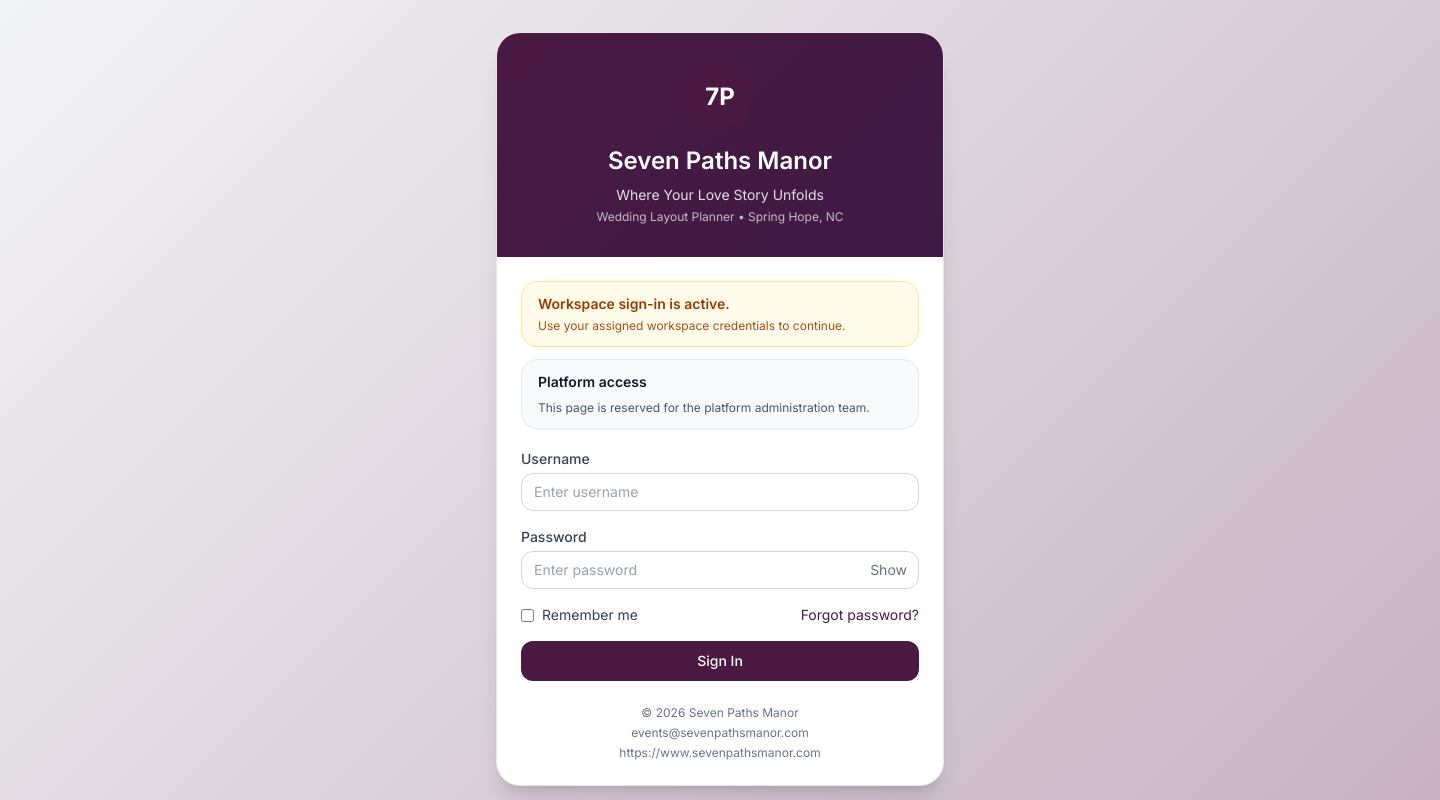
Test: LoginScreen › clears Signing in and hides raw service errors when login throws
Type "admin@example.com" into the field labelled "Username" at (720, 492), box [521,473,919,511]
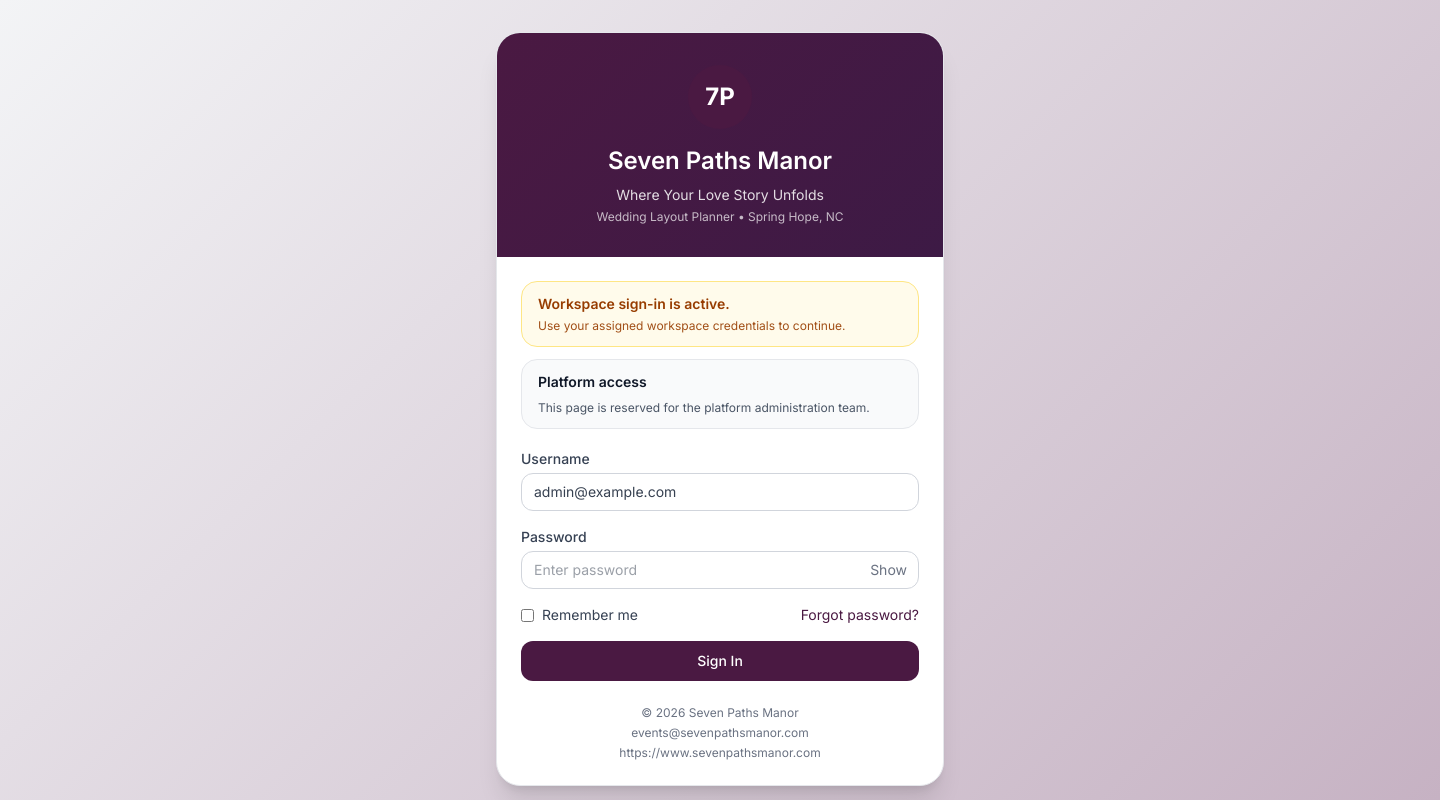
Type "secret" into the password field labelled "Password" at (720, 570), box [521,551,919,589]
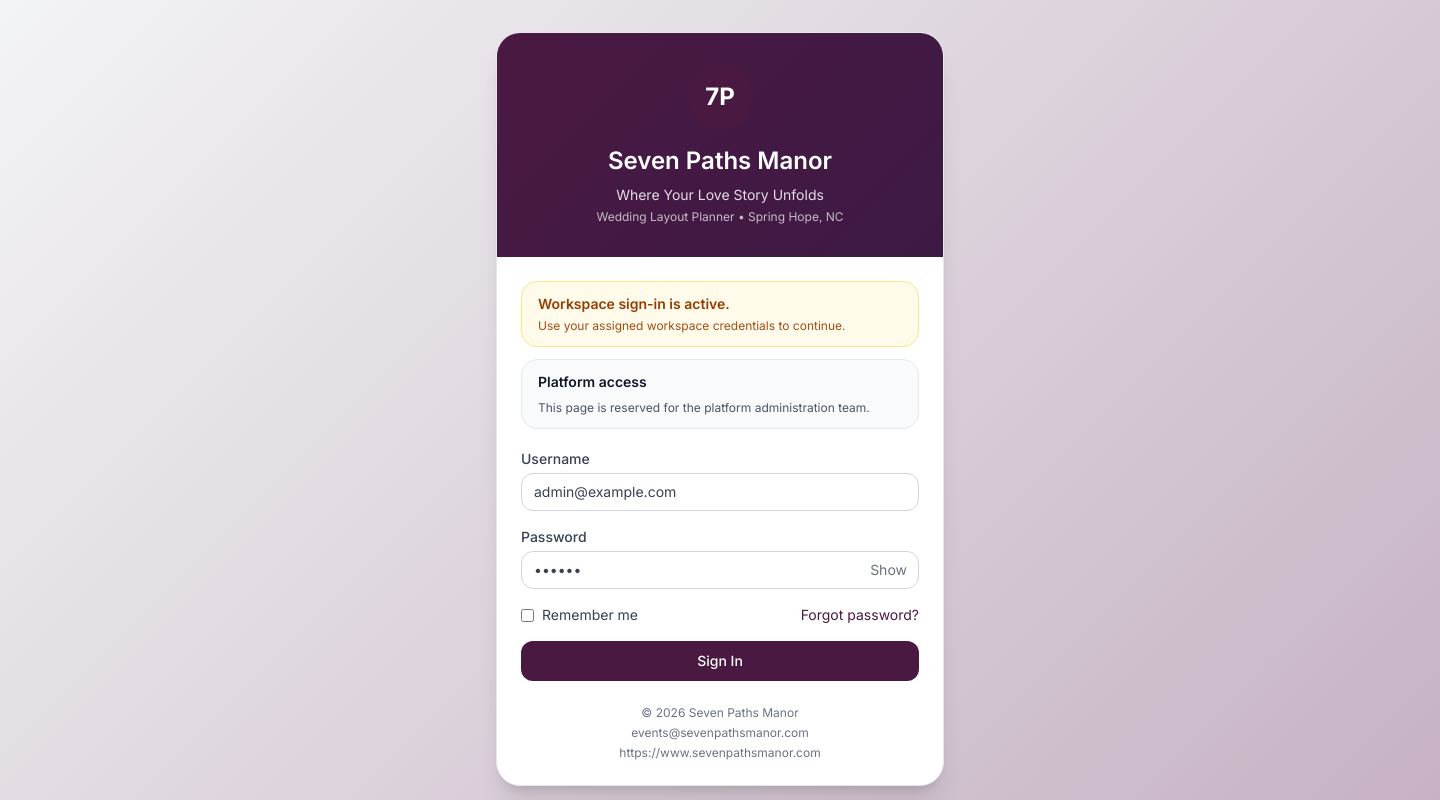
Click the button "Sign In" at (720, 661), box [521,641,919,681]
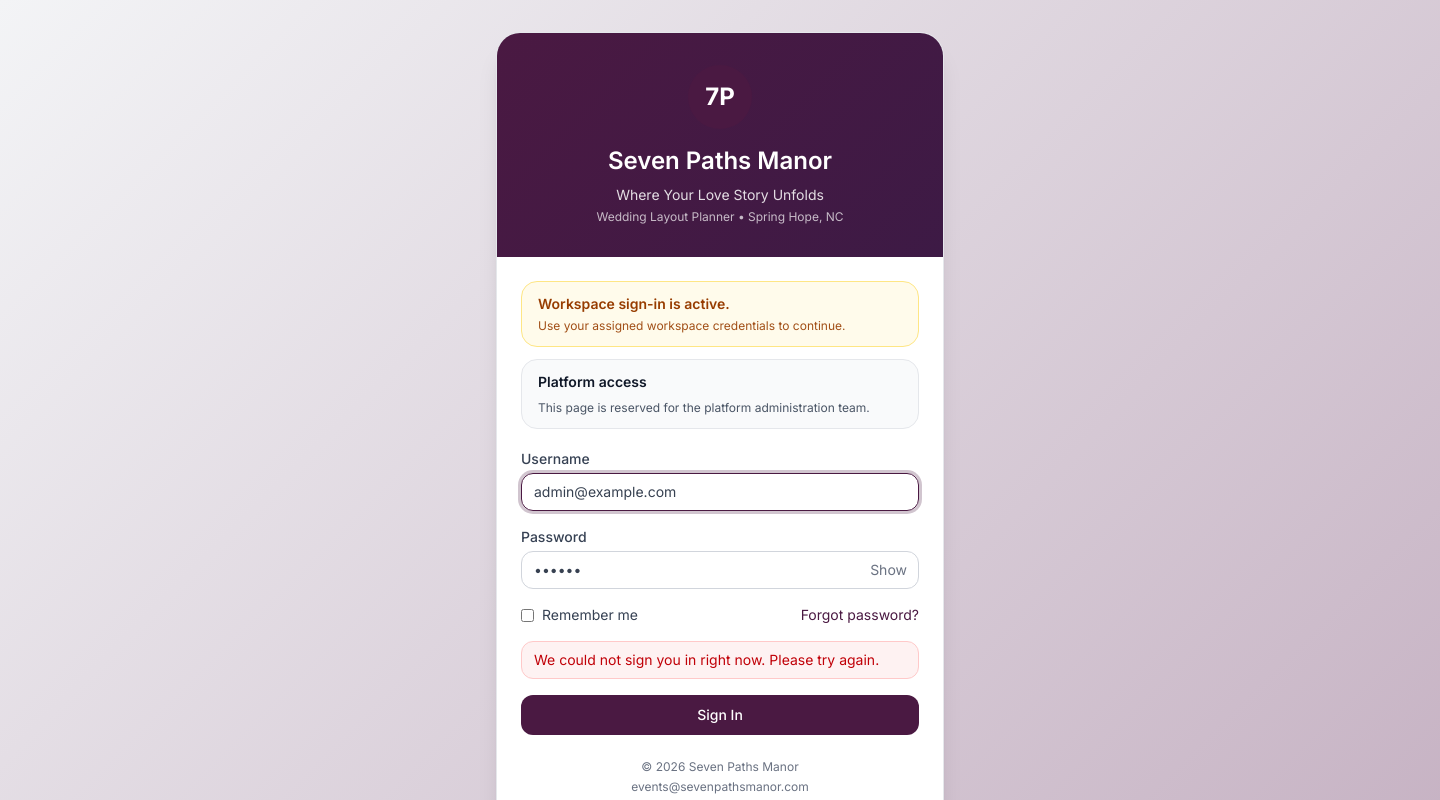
Expected: the button "Sign In" is enabled, [521,695,919,735]
Result: the message shows "could not sign you in right now" at [534,651,879,668]
